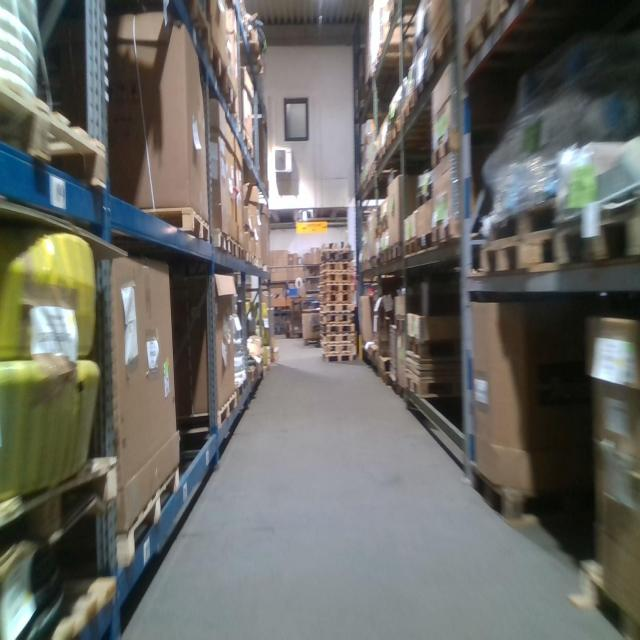pallet: (1, 443, 119, 580), (1, 74, 108, 192), (119, 459, 181, 570), (548, 202, 639, 275), (578, 554, 640, 637), (37, 574, 115, 638), (475, 466, 569, 519), (478, 230, 543, 282), (131, 206, 211, 246), (175, 386, 238, 435), (487, 203, 566, 238), (171, 1, 215, 61), (463, 3, 498, 70), (429, 18, 459, 90), (404, 372, 462, 402), (406, 334, 462, 362), (208, 43, 226, 104), (427, 129, 452, 166), (431, 215, 458, 244), (226, 75, 238, 133), (418, 64, 433, 109), (210, 226, 231, 256), (405, 86, 415, 140), (239, 124, 254, 158), (387, 116, 401, 152), (319, 270, 355, 284), (498, 2, 528, 18), (321, 247, 353, 260), (417, 227, 433, 252), (319, 293, 351, 305), (320, 312, 353, 323), (320, 260, 355, 270), (320, 323, 355, 333), (394, 321, 411, 341), (320, 333, 357, 342), (324, 342, 357, 352), (236, 376, 247, 403), (324, 352, 357, 361), (387, 239, 401, 260), (319, 284, 351, 293), (229, 235, 238, 262), (319, 305, 353, 312), (405, 236, 418, 254), (244, 249, 253, 266), (238, 240, 244, 263)
pallet_truck: (285, 280, 293, 340)
